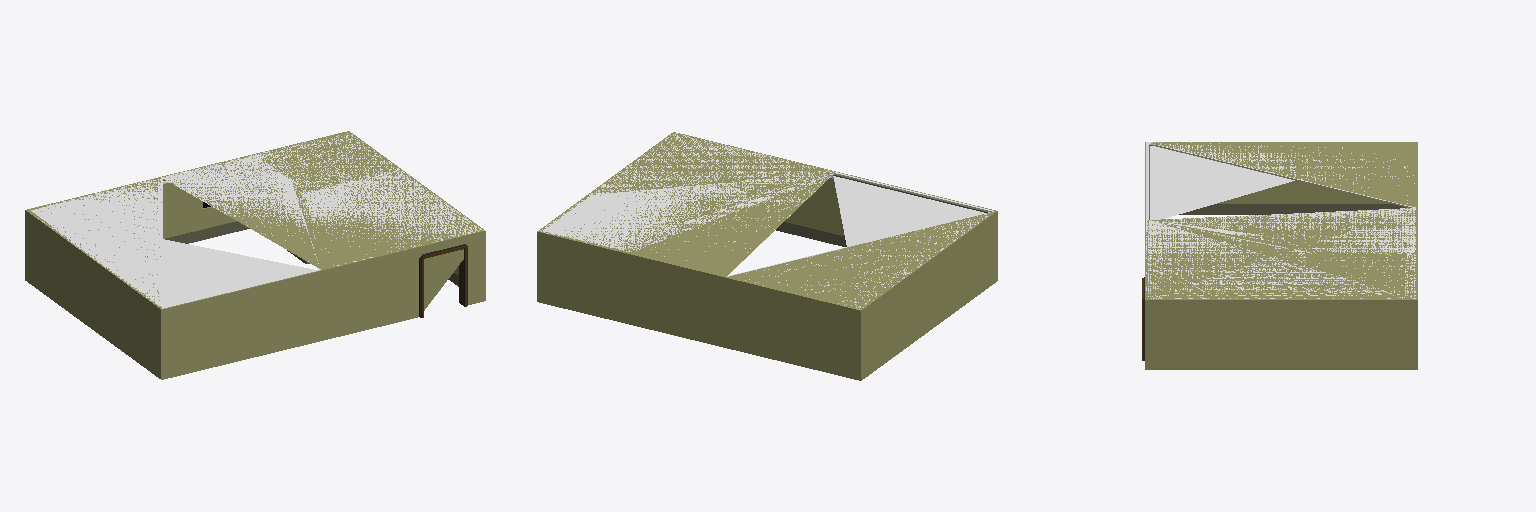
The model's file is LittlerrootWall.obj.
3 views of the same model, side by side, from view 1: azimuth 30°, elevation 25°; view 2: azimuth 150°, elevation 25°; view 3: azimuth 270°, elevation 25° (orthographic).
Visible parts, largest first — view 1: LittlerrootWallUmriss_LittlerrootWallUmriss.052; view 2: LittlerrootWallUmriss_LittlerrootWallUmriss.052; view 3: LittlerrootWallUmriss_LittlerrootWallUmriss.052.
Boxes of the visible parts, x1,y1,x2,y2 form: LittlerrootWallUmriss_LittlerrootWallUmriss.052: [25, 131, 485, 379]; LittlerrootWallUmriss_LittlerrootWallUmriss.052: [537, 132, 997, 380]; LittlerrootWallUmriss_LittlerrootWallUmriss.052: [1142, 142, 1417, 369].
Bounding box in the file's own units: 17.75 × 3.69 × 13.06.